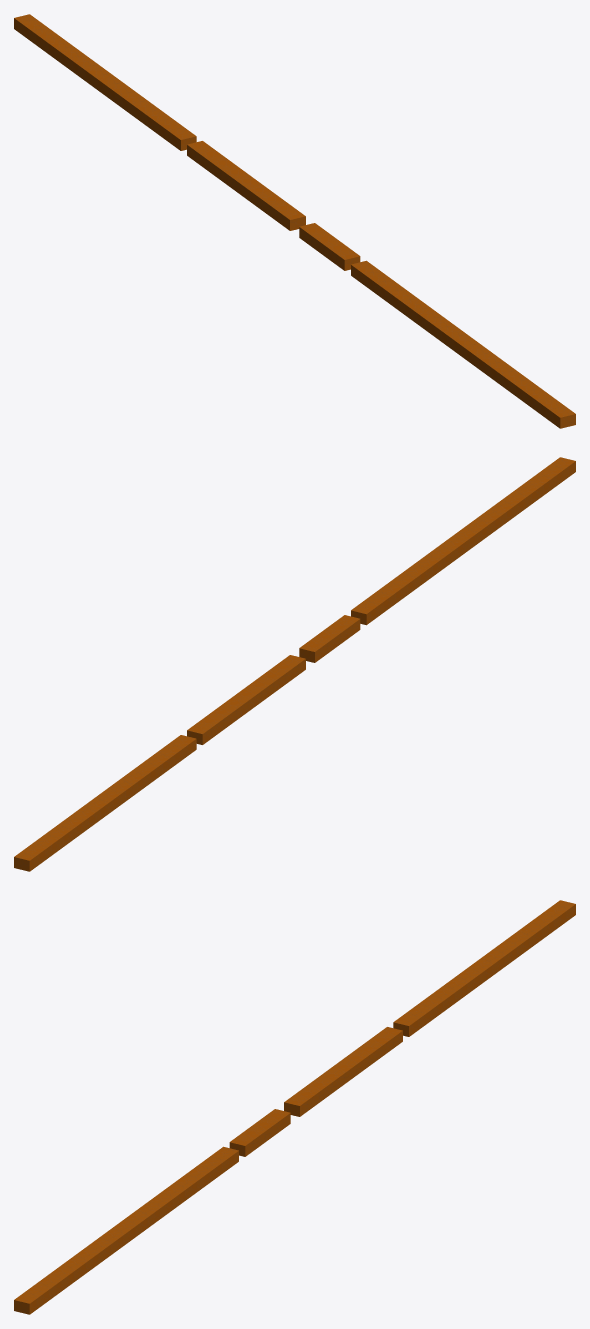
File: Ground.fbx
The picture shows the model from 3 angles, top to bottom: view 1: azimuth 30°, elevation 25°; view 2: azimuth 150°, elevation 25°; view 3: azimuth 330°, elevation 25°; orthographic projection.
Visible parts, largest first — view 1: pCube5; view 2: pCube5; view 3: pCube5.
Boxes of the visible parts, x1,y1,x2,y2 form: pCube5: [14, 14, 575, 428]; pCube5: [14, 457, 575, 871]; pCube5: [14, 900, 575, 1314].
Bounding box in the file's own units: 300 × 200 × 18000.
Materials: 1 (1 with a texture image).
